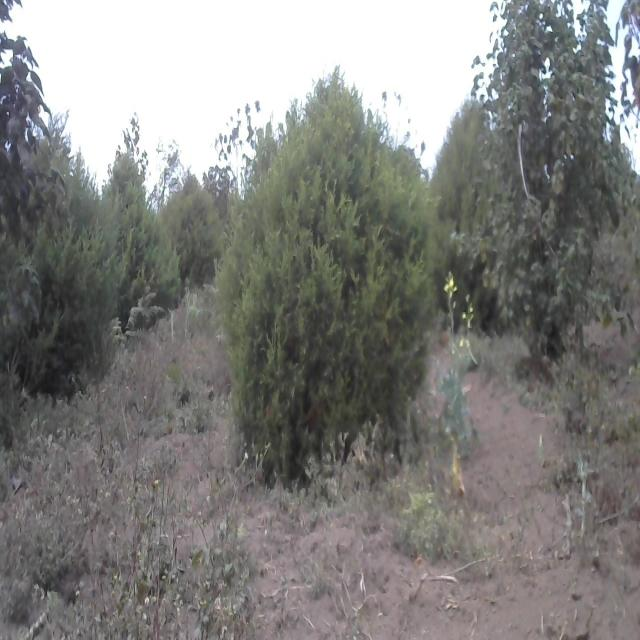cedrus: (228, 85, 424, 459), (28, 142, 109, 376), (112, 186, 168, 336), (174, 171, 222, 283)
other: (476, 0, 624, 342)
